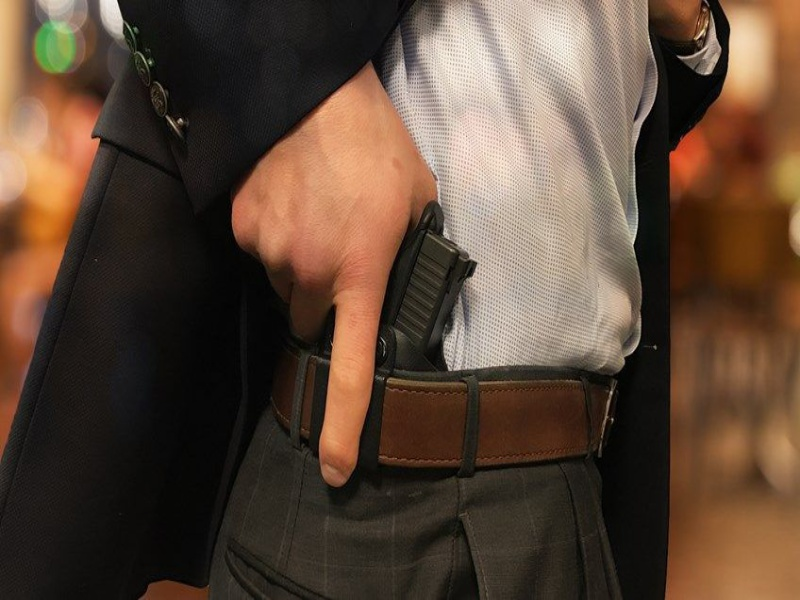gun: (300, 209, 503, 405)
